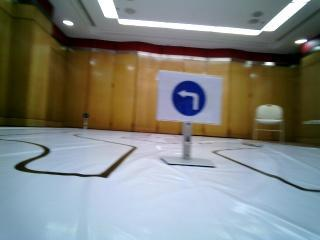left: (162, 73, 216, 117)
